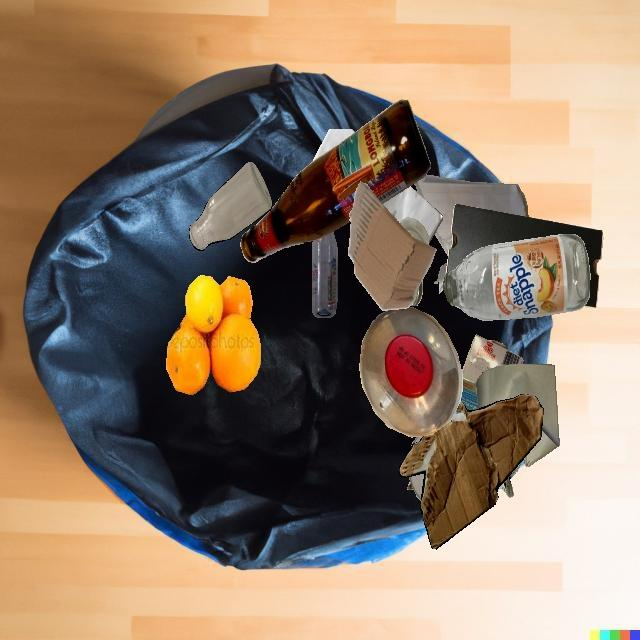biowaste: (166, 275, 261, 395)
cardboard: (399, 394, 544, 549), (446, 204, 603, 308), (348, 182, 436, 311), (460, 335, 523, 411)
glass: (240, 100, 430, 262), (443, 234, 590, 320), (189, 161, 273, 251), (399, 218, 429, 245), (408, 473, 425, 500), (410, 278, 423, 306)
paper: (476, 364, 559, 498), (414, 174, 528, 256), (312, 162, 395, 220), (383, 186, 443, 244), (312, 129, 355, 162)
plastic: (359, 307, 463, 437), (312, 231, 337, 317)
